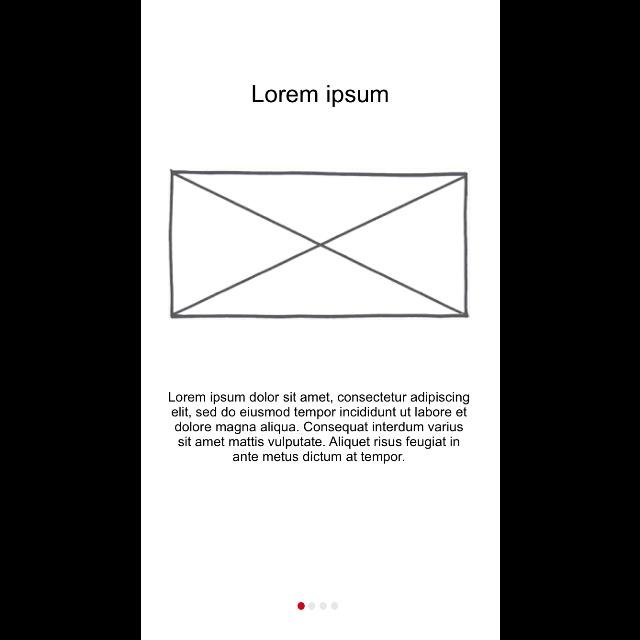image: (168, 169, 470, 319)
pageindicator: (297, 602, 339, 610)
text: (168, 392, 470, 464), (252, 84, 388, 108)
